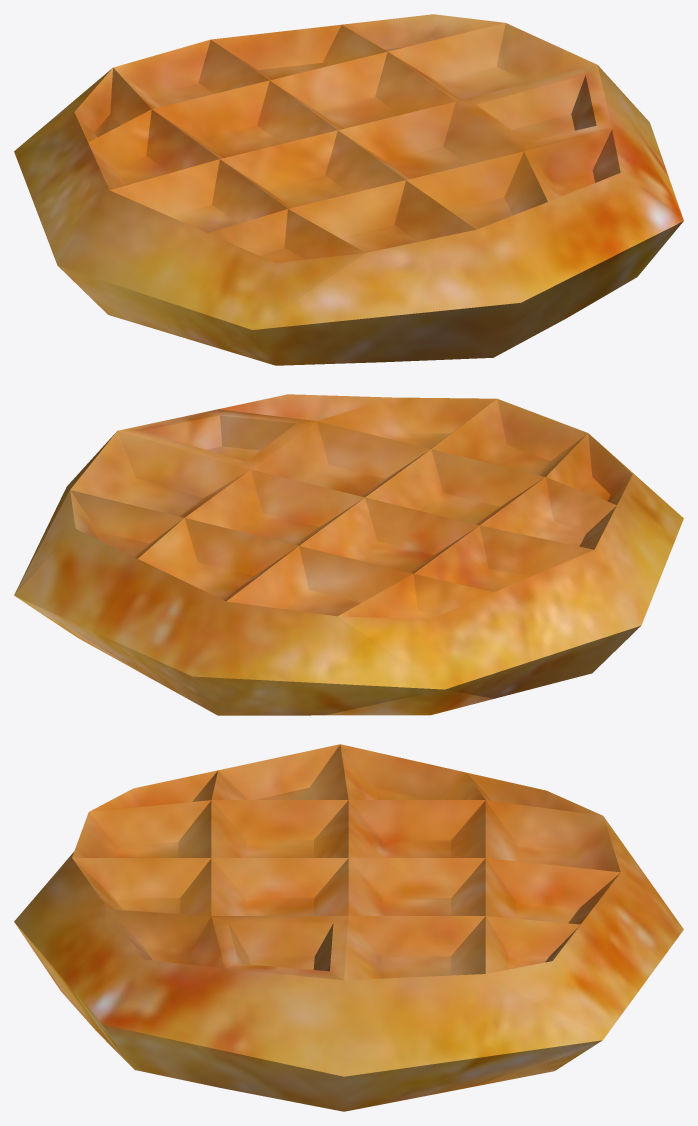
File: SweetPastries_3.fbx
The picture shows the model from 3 angles, top to bottom: view 1: azimuth 30°, elevation 25°; view 2: azimuth 150°, elevation 25°; view 3: azimuth 270°, elevation 25°; orthographic projection. The views are drawn at different scales.
Visible parts, largest first — view 1: SweetPastries_3; view 2: SweetPastries_3; view 3: SweetPastries_3.
Boxes of the visible parts, x1=… form: SweetPastries_3: x1=14, y1=14, x2=683, y2=365; SweetPastries_3: x1=14, y1=394, x2=683, y2=715; SweetPastries_3: x1=14, y1=744, x2=683, y2=1111.
Bounding box in the file's own units: 0.2157 × 0.046 × 0.2099.
